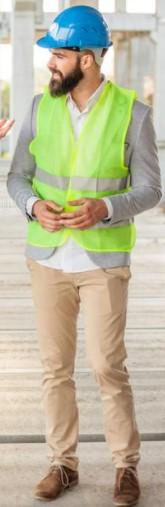boots: (30, 438, 155, 507)
hat: (34, 5, 114, 51)
low quality vest: (32, 94, 140, 256)
no protective face gear: (43, 49, 105, 98)
